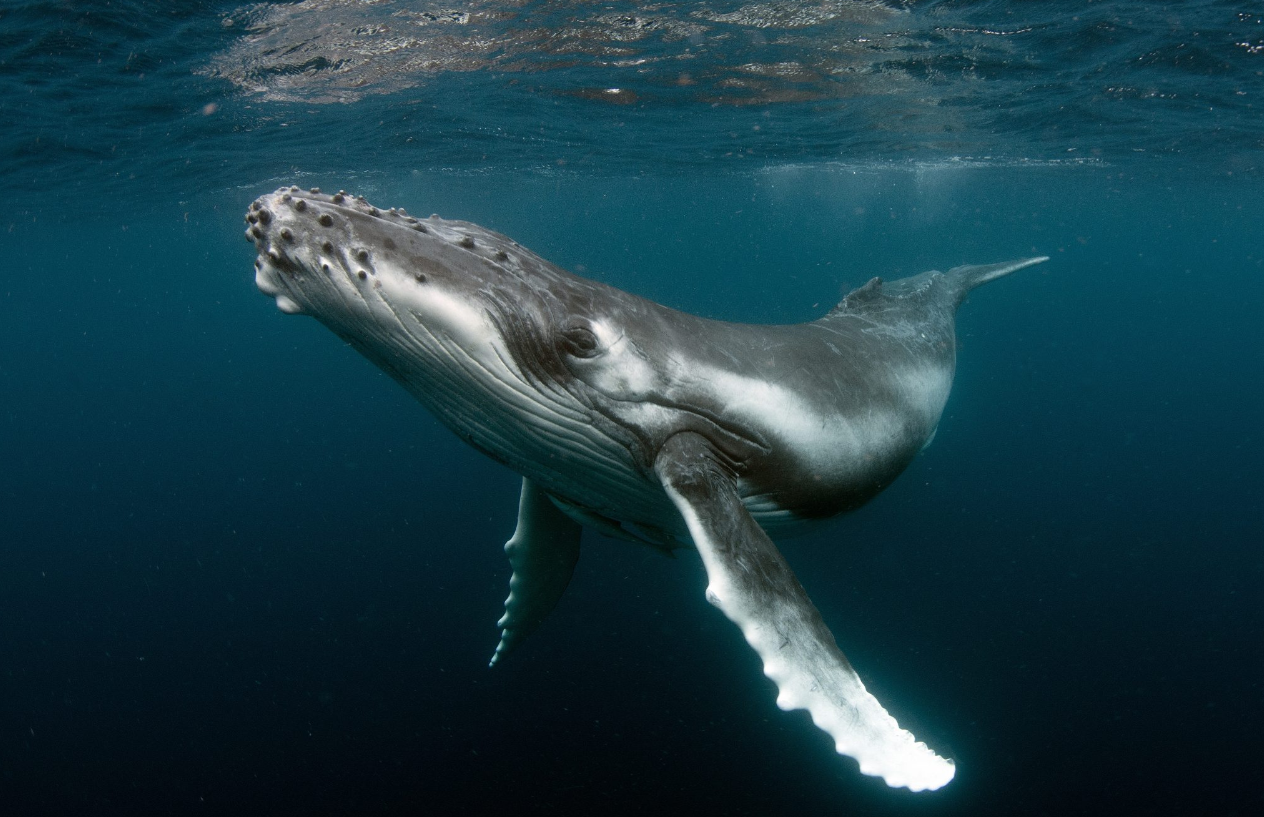Humpback whale: (233, 177, 1053, 794)
